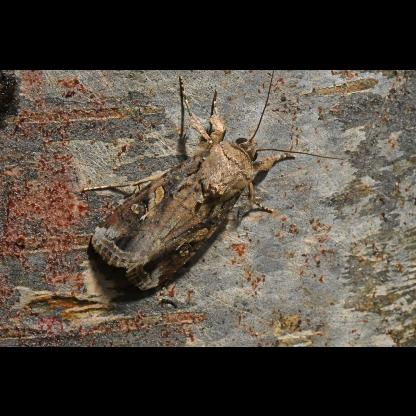Fall Armyworm Moth: (80, 72, 348, 304)
